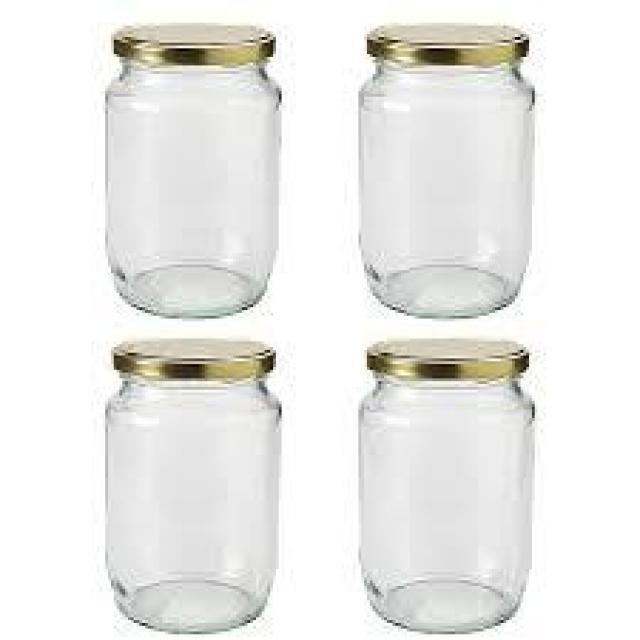Glass: (102, 21, 286, 320), (102, 334, 284, 636), (356, 22, 538, 323), (357, 334, 537, 635)
